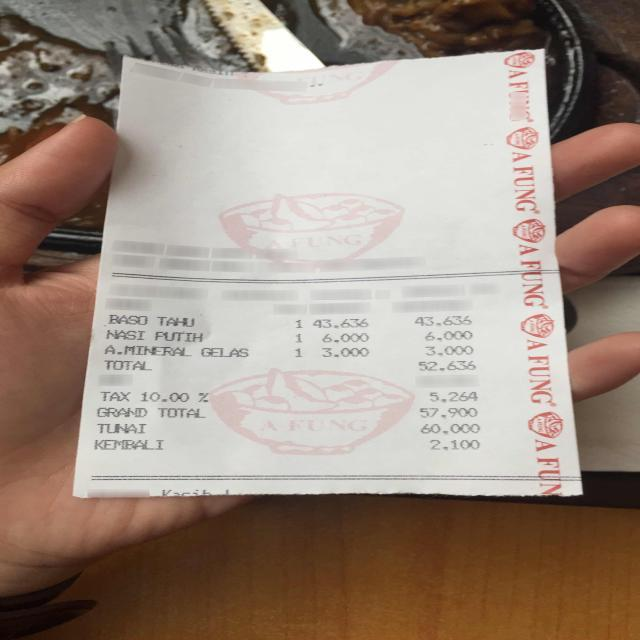kertas: (71, 50, 580, 498)
